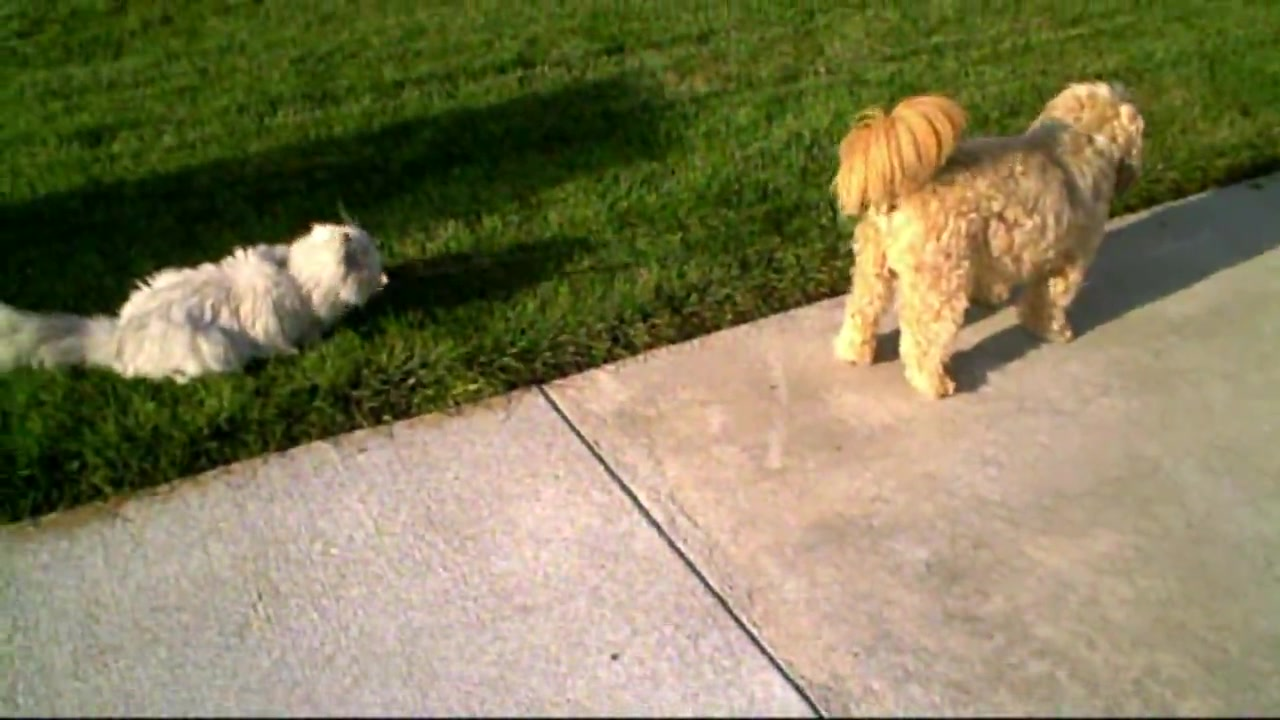dog: (829, 80, 1146, 398)
